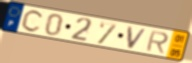0: (44, 13, 65, 36)
2: (69, 18, 93, 42)
7: (97, 20, 119, 45)
C: (20, 9, 45, 33)
R: (144, 30, 170, 55)
V: (127, 26, 149, 50)
